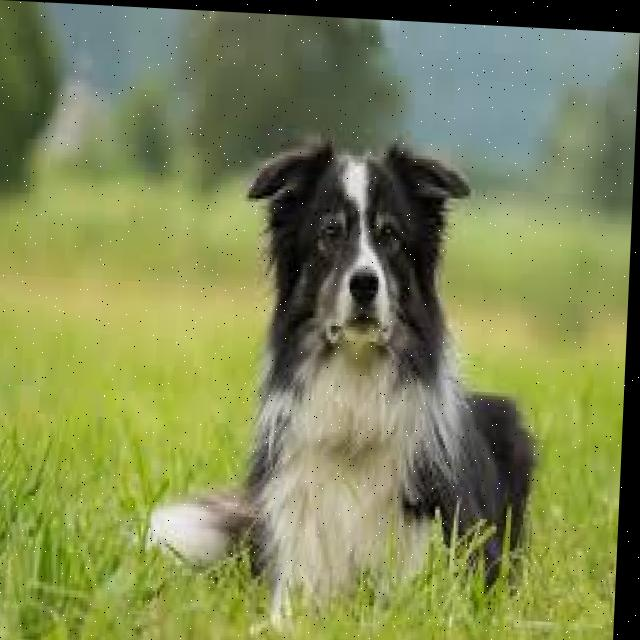BORDER_COLLIE: (138, 110, 577, 623)
